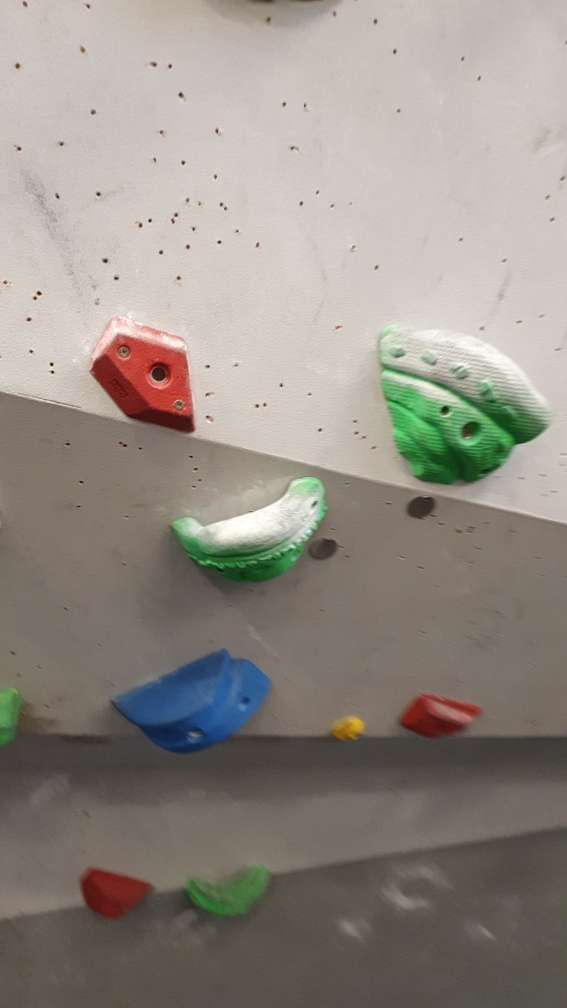Crimp: (86, 311, 200, 437), (391, 686, 484, 749)
Hand Start: (401, 488, 443, 526), (308, 536, 344, 566)
Jug: (375, 320, 554, 485), (161, 468, 330, 588), (176, 848, 280, 924)
Pinch: (102, 648, 273, 757)
